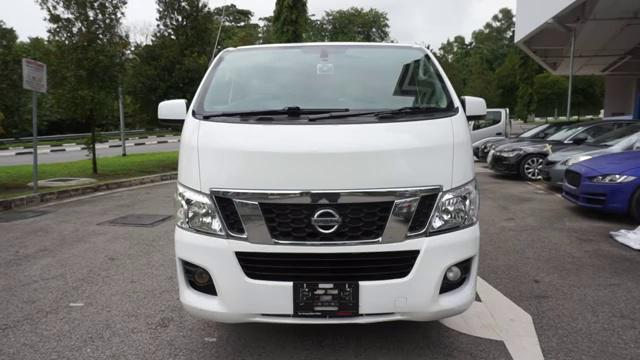Van: (177, 36, 492, 324)
